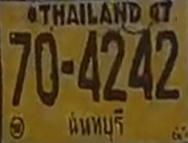0: (34, 32, 59, 109)
2: (100, 31, 127, 101), (155, 30, 178, 100)
4: (128, 28, 152, 100), (77, 29, 99, 101)
7: (8, 32, 30, 105)
NBI: (65, 105, 126, 143)
